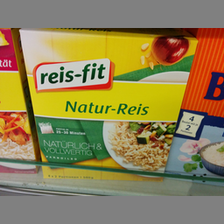rice: (18, 29, 198, 182), (167, 28, 224, 182)
